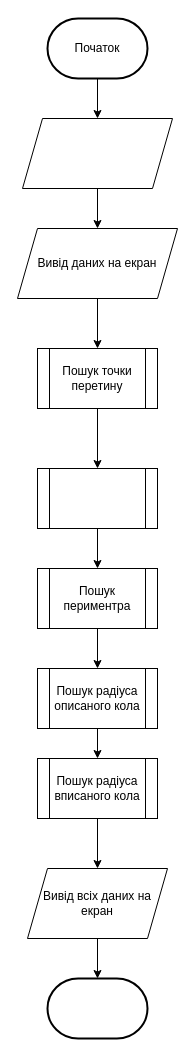
Image size: 195x1056. Some labels were removed from this diagram. The centre of each missing label's shape, as x and y in pixels:
"Ввід даних з файлу або за допомогою" belongs at (97,153).
"Кінець" belongs at (97,1008).
"Пошук площі" belongs at (97,498).
